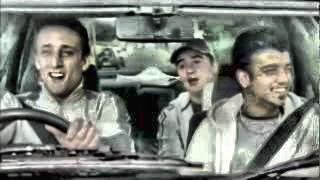seatbelt: (238, 92, 315, 178), (19, 96, 62, 146)
